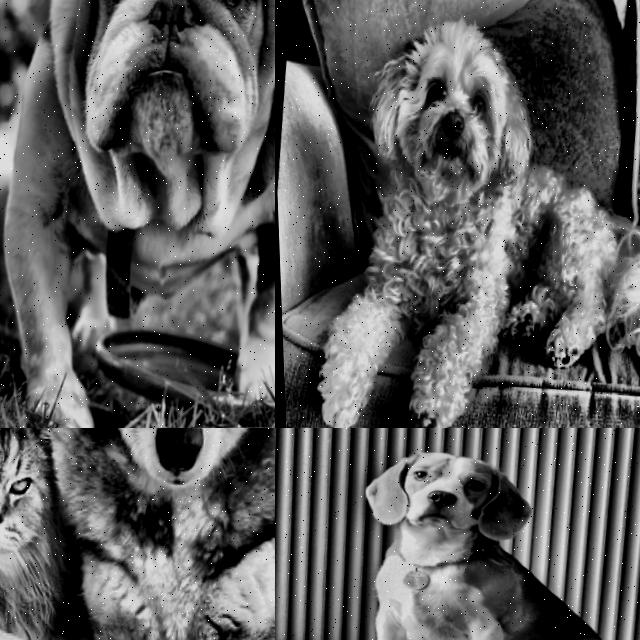beagle: (325, 428, 553, 578)
bulldog: (17, 0, 275, 261)
husky: (59, 428, 275, 525)
poodle: (333, 0, 559, 240)
